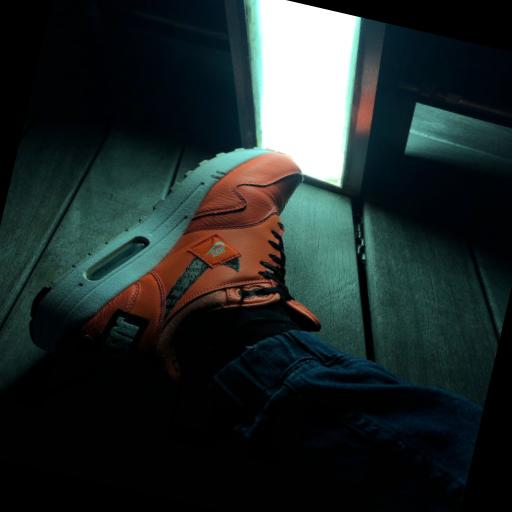shoe: (30, 149, 320, 376)
